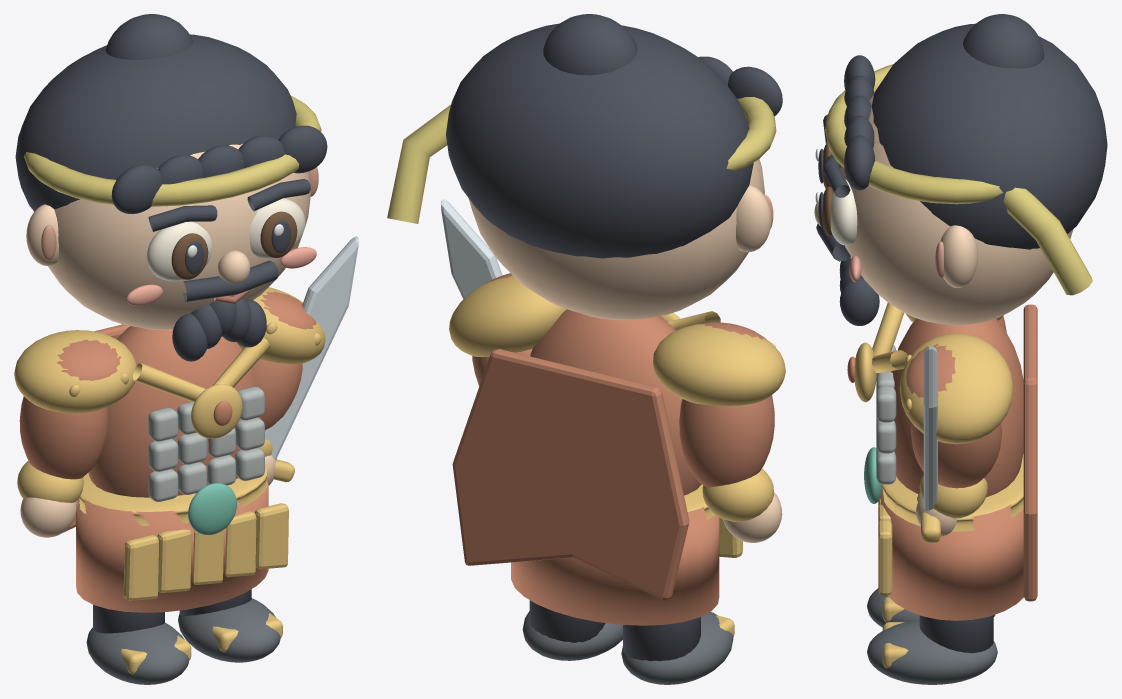
The model's file is bandit_second.fbx.
The picture shows the model from 3 angles, left to right: view 1: azimuth 30°, elevation 25°; view 2: azimuth 150°, elevation 25°; view 3: azimuth 270°, elevation 25°; orthographic projection. The views are drawn at different scales.
Visible parts, largest first — view 1: hair_mass, face, body, robe_skirt, headband, shoulder_gold.001, sleeve.001, dao_blade, boot, boot.001, hair_bun, belt (+49 smaller); view 2: hair_mass, cape, face, robe_skirt, shoulder_gold.001, body, sleeve.001, shoulder_gold, hair_bun, headband_tail, boot, dao_blade (+9 smaller); view 3: hair_mass, face, robe_skirt, shoulder_gold, body, boot.001, headband, cape, headband_tail, hair_bun, sleeve, belt (+25 smaller).
Part boxes in pixels (bbox=[...]): hair_mass: bbox=[15, 34, 296, 211]; face: bbox=[33, 144, 310, 329]; body: bbox=[88, 326, 260, 497]; robe_skirt: bbox=[76, 476, 268, 612]; headband: bbox=[24, 95, 321, 206]; shoulder_gold.001: bbox=[14, 330, 136, 413]; sleeve.001: bbox=[19, 396, 107, 479]; dao_blade: bbox=[265, 236, 358, 459]; boot: bbox=[86, 622, 189, 684]; boot.001: bbox=[178, 598, 280, 662]; hair_bun: bbox=[105, 14, 192, 59]; belt: bbox=[76, 463, 268, 525]; hair_mass: bbox=[446, 23, 753, 258]; cape: bbox=[452, 349, 689, 600]; face: bbox=[468, 159, 764, 320]; robe_skirt: bbox=[511, 506, 719, 625]; shoulder_gold.001: bbox=[653, 323, 785, 405]; body: bbox=[530, 309, 701, 495]; sleeve.001: bbox=[679, 395, 774, 487]; shoulder_gold: bbox=[449, 276, 566, 357]; hair_bun: bbox=[543, 14, 637, 75]; headband_tail: bbox=[387, 104, 450, 223]; boot: bbox=[621, 612, 733, 684]; dao_blade: bbox=[441, 199, 502, 298]; hair_mass: bbox=[871, 23, 1107, 249]; face: bbox=[840, 93, 1073, 325]; robe_skirt: bbox=[880, 484, 1023, 620]; shoulder_gold: bbox=[899, 333, 1013, 444]; body: bbox=[891, 318, 1023, 497]; boot.001: bbox=[867, 620, 997, 684]; headband: bbox=[825, 64, 1002, 204]; cape: bbox=[1023, 304, 1037, 601]; headband_tail: bbox=[1003, 187, 1092, 295]; hair_bun: bbox=[963, 14, 1044, 68]; sleeve: bbox=[911, 423, 1001, 488]; belt: bbox=[882, 453, 1023, 531].
Size of the model in its own units: 1.35 by 2.46 by 1.03.
